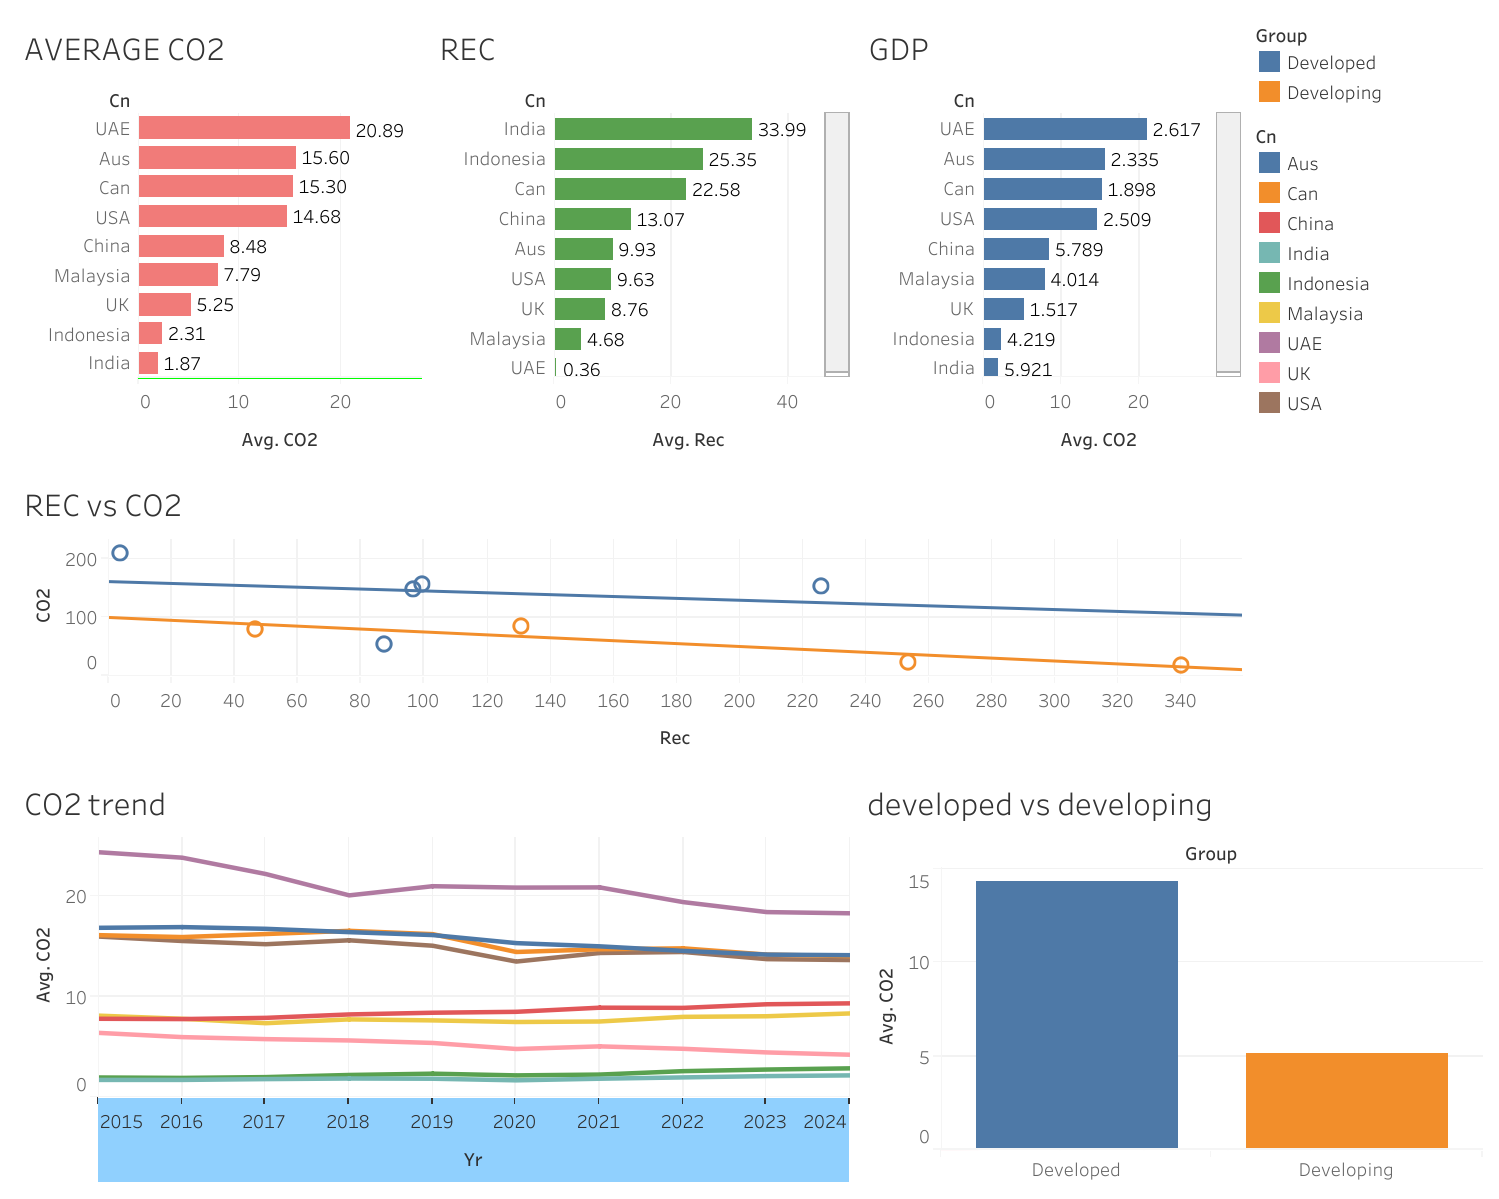

What the dashboard file says about the page in this screenshot:
{"tool":"tableau","page":{"name":"Renewable Energy, Economic Growth and CO₂ Emissions (2015–2024)","canvas":[1000,800],"ordinal":0},"visuals":[{"type":"worksheet","title":"AVERAGE CO2","mark":"Automatic","rows":["cn"],"cols":["CO2"],"box":[8,8,277,304.1]},{"type":"worksheet","title":"REC","mark":"Automatic","rows":["cn"],"cols":["rec"],"box":[285,8,286,304.1]},{"type":"worksheet","title":"GDP","mark":"Automatic","rows":["cn"],"cols":["CO2"],"box":[571,8,261,304.1]},{"type":"legend","title":"REC vs CO2","param":"[federated.00oj0ml0yok91g1brhufs121jc9b].[none:Group:nk]","box":[832,8,160,67]},{"type":"legend","title":"CO2 trend","param":"[federated.00oj0ml0yok91g1brhufs121jc9b].[none:cn:nk]","box":[832,75,160,207]},{"type":"worksheet","title":"REC vs CO2","mark":"Automatic","rows":["CO2"],"cols":["rec"],"box":[8,312.1,824,198.9]},{"type":"worksheet","title":"CO2 trend","mark":"Automatic","rows":["CO2"],"cols":["yr"],"box":[8,511,562,281]},{"type":"worksheet","title":"developed vs developing","mark":"Automatic","rows":["CO2"],"cols":["Group"],"box":[570,511,422,281]}]}

Visuals, with their boxes in screenshot pixels (x1, y1, x2, y2), scaled from the page's 1000x800 canvas onto the 1499x1199 screenshot:
"AVERAGE CO2" worksheet: BBox(12, 12, 427, 468)
"REC" worksheet: BBox(427, 12, 856, 468)
"GDP" worksheet: BBox(856, 12, 1247, 468)
"REC vs CO2" legend: BBox(1247, 12, 1487, 112)
"CO2 trend" legend: BBox(1247, 112, 1487, 423)
"REC vs CO2" worksheet: BBox(12, 468, 1247, 766)
"CO2 trend" worksheet: BBox(12, 766, 854, 1187)
"developed vs developing" worksheet: BBox(854, 766, 1487, 1187)
